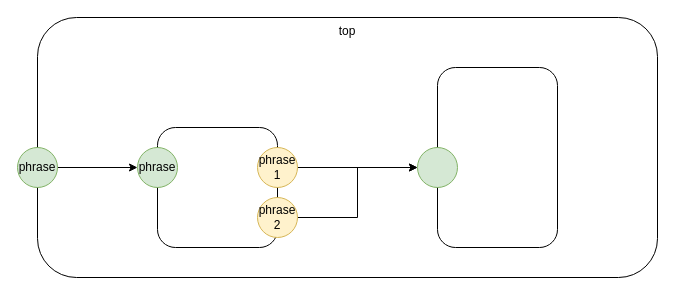
Some shapes in this 675 by 295 pixel diagram are drawn without their labels. The shapes that lost their labels are listed below. From the top down, each one's box as (x1, y1, x2, y2) in pixels, then its label:
(416, 146, 458, 188): food order
(436, 66, 558, 248): LED bank
(156, 126, 278, 248): phrase parser
